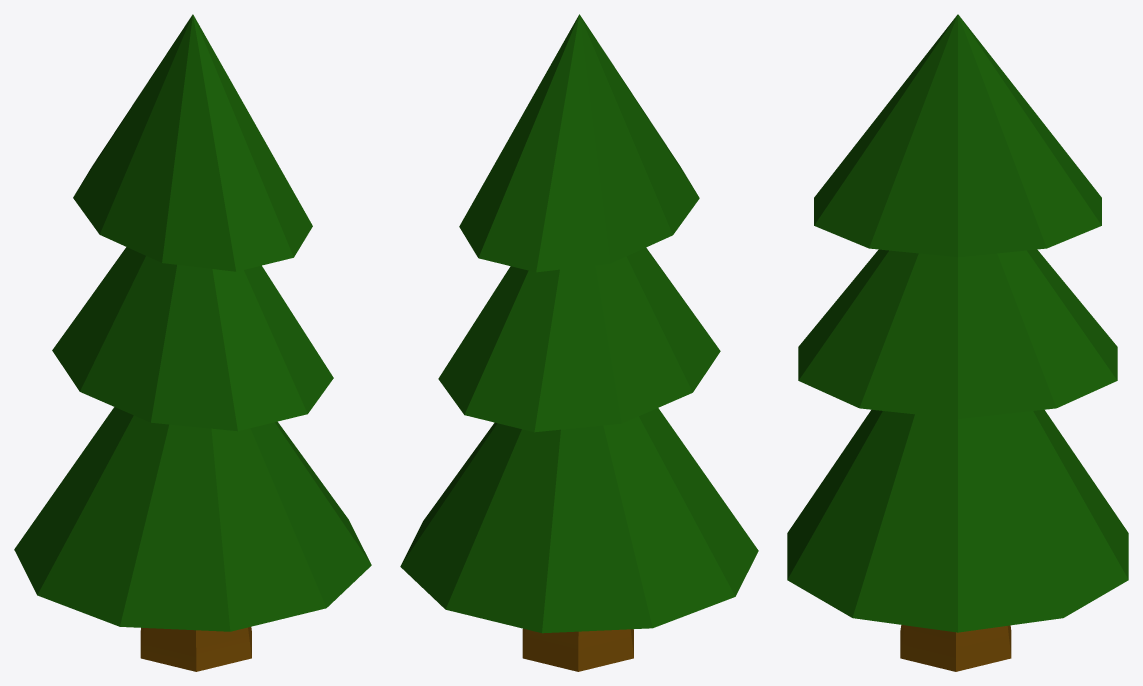
Rendered from Tree.fbx.
3 views of the same model, side by side, from view 1: azimuth 30°, elevation 25°; view 2: azimuth 150°, elevation 25°; view 3: azimuth 270°, elevation 25° (orthographic).
Visible parts, largest first — view 1: pCylinder3; view 2: pCylinder3; view 3: pCylinder3.
Boxes of the visible parts, x1,y1,x2,y2 form: pCylinder3: (14,14,371,671); pCylinder3: (400,14,758,671); pCylinder3: (787,14,1128,671).
Size of the model in its own units: 2 by 3.87 by 1.9.
